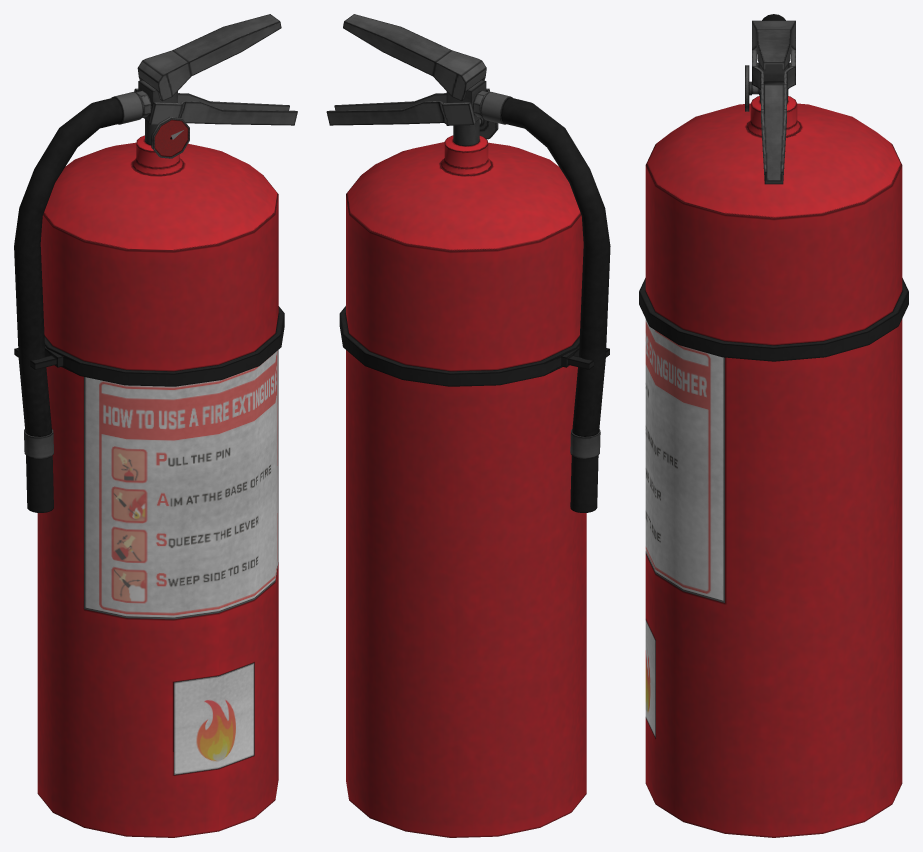
File: Prop_FireExtinguisher_model.fbx
3 renders of one model, left to right at view 1: azimuth 30°, elevation 25°; view 2: azimuth 150°, elevation 25°; view 3: azimuth 270°, elevation 25°, orthographic. The views are drawn at different scales.
Parts seen in each view (by area): view 1: Prop_FireExtinguisher_model; view 2: Prop_FireExtinguisher_model; view 3: Prop_FireExtinguisher_model.
Boxes of the visible parts, x1,y1,x2,y2 form: Prop_FireExtinguisher_model: (14,14,297,837); Prop_FireExtinguisher_model: (326,14,610,837); Prop_FireExtinguisher_model: (639,14,908,837).
Bounding box in the file's own units: 1.61 × 4.1 × 1.28.
Materials: 1 (1 with a texture image).
